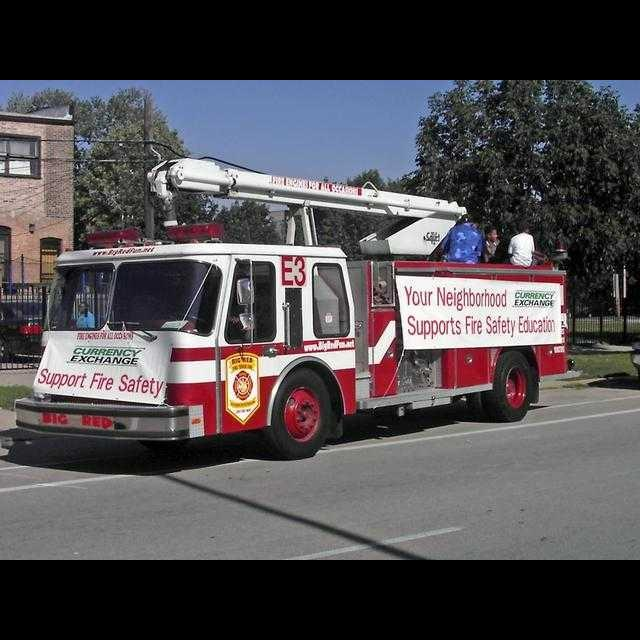emergency: (9, 156, 572, 460)
